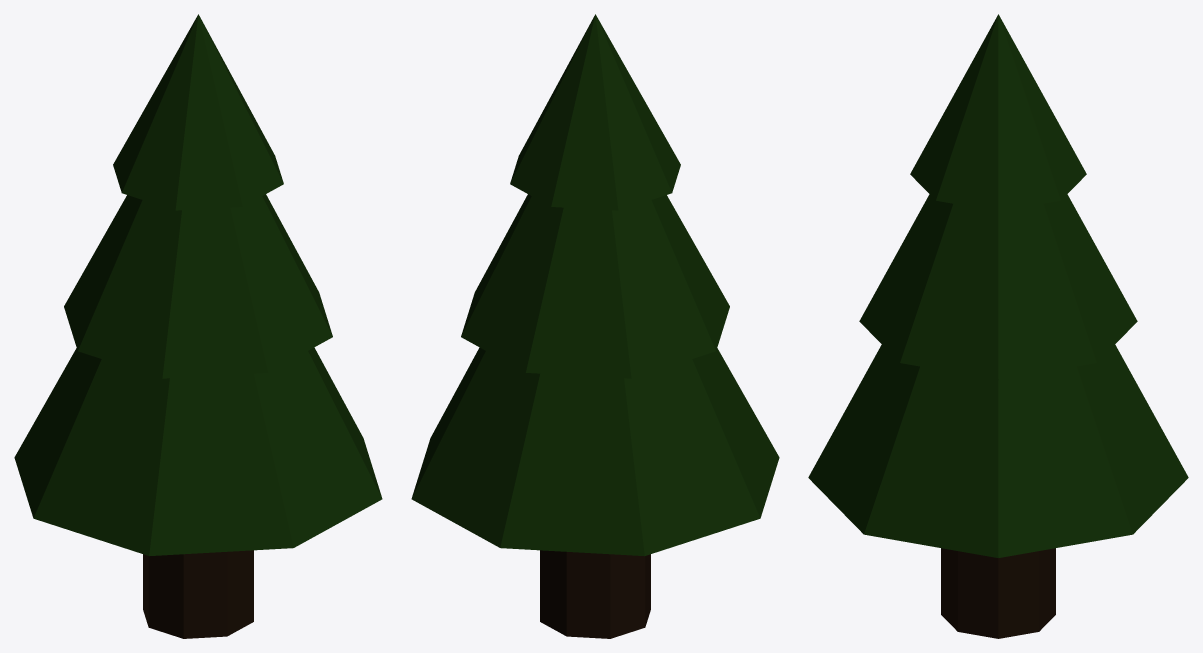
The model's file is tree.obj.
The picture shows the model from 3 angles, left to right: view 1: azimuth 30°, elevation 25°; view 2: azimuth 150°, elevation 25°; view 3: azimuth 270°, elevation 25°; orthographic projection.
Parts seen in each view (by area): view 1: Cone.001; view 2: Cone.001; view 3: Cone.001.
Boxes of the visible parts, left/top/right/bottom form: Cone.001: left=14, top=14, right=382, bottom=638; Cone.001: left=411, top=14, right=779, bottom=638; Cone.001: left=808, top=14, right=1188, bottom=638.
Size of the model in its own units: 4.17 by 7.27 by 4.17.
